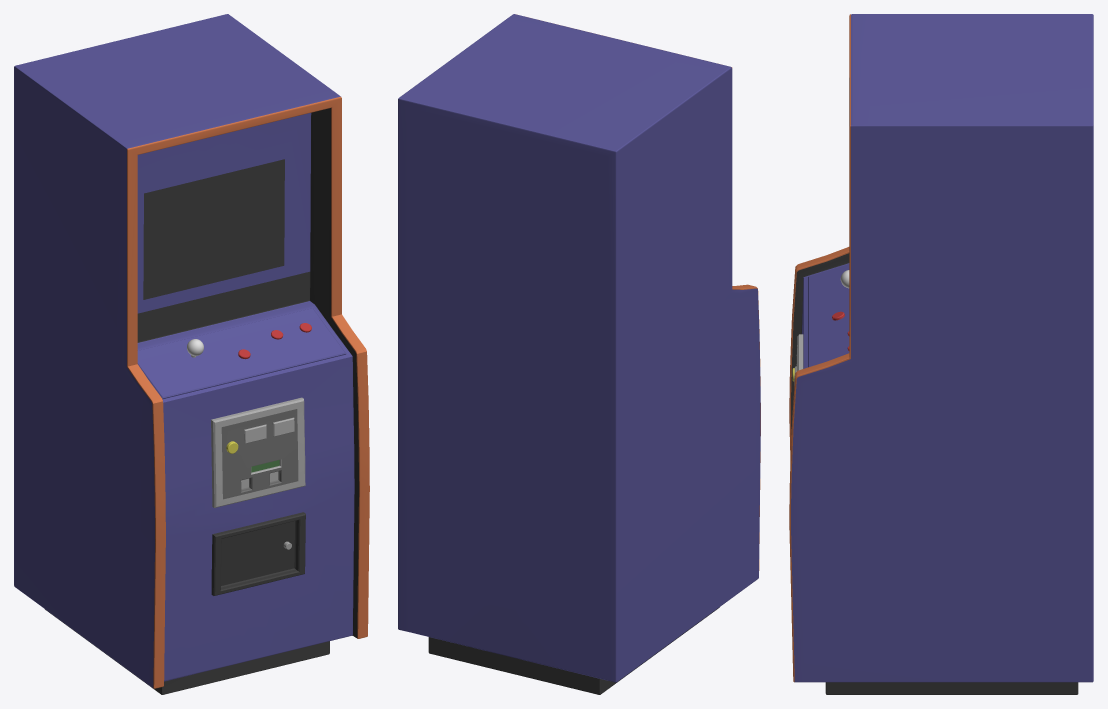
File: Arcade_Machine_ET.fbx
3 views of the same model, side by side, from view 1: azimuth 30°, elevation 25°; view 2: azimuth 150°, elevation 25°; view 3: azimuth 270°, elevation 25° (orthographic). The views are drawn at different scales.
Visible parts, largest first — view 1: Arcade_Machine_v2; view 2: Arcade_Machine_v2; view 3: Arcade_Machine_v2.
Part boxes in pixels (left/top/right/bottom): Arcade_Machine_v2: left=14, top=14, right=369, bottom=694; Arcade_Machine_v2: left=398, top=14, right=760, bottom=694; Arcade_Machine_v2: left=789, top=14, right=1093, bottom=694.
Bounding box in the file's own units: 10.99 × 26.61 × 12.6.
